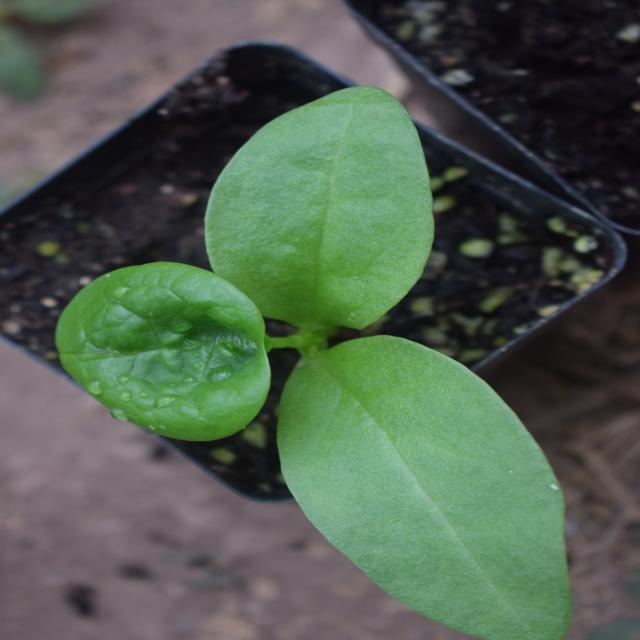Ceylon spinach: (12, 59, 532, 580)
